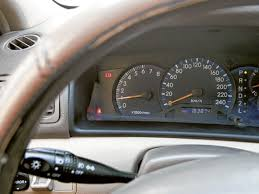Digital_Meter: (178, 106, 213, 115)
